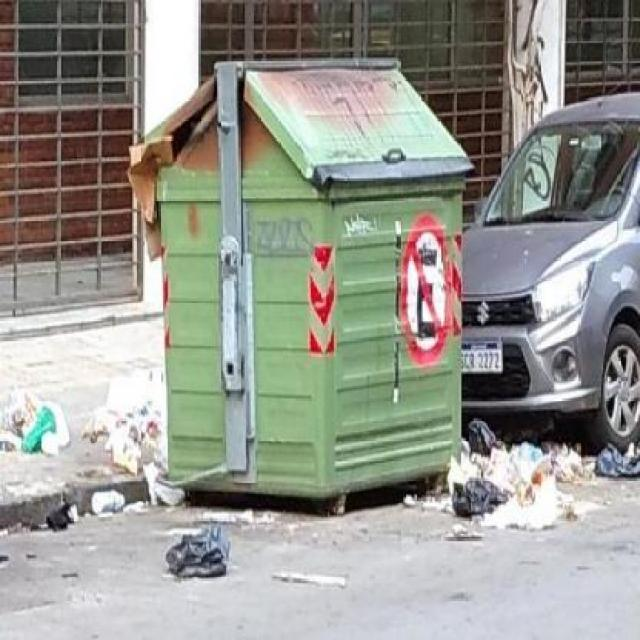garbage: (459, 419, 608, 525), (94, 371, 168, 501), (2, 379, 83, 484), (151, 525, 250, 590), (599, 432, 640, 484)
